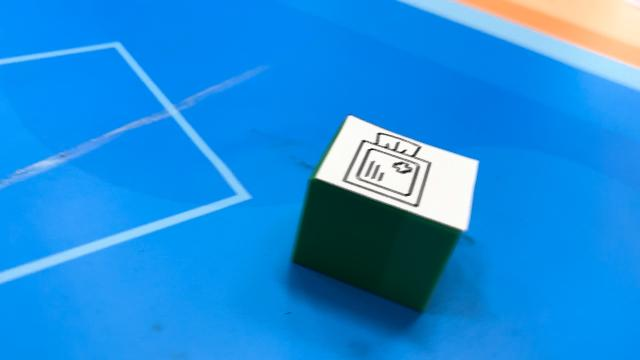napkin: (292, 115, 480, 314)
